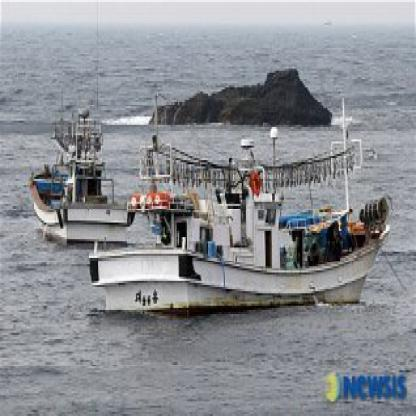Ship: (86, 178, 399, 326), (22, 82, 145, 251)
